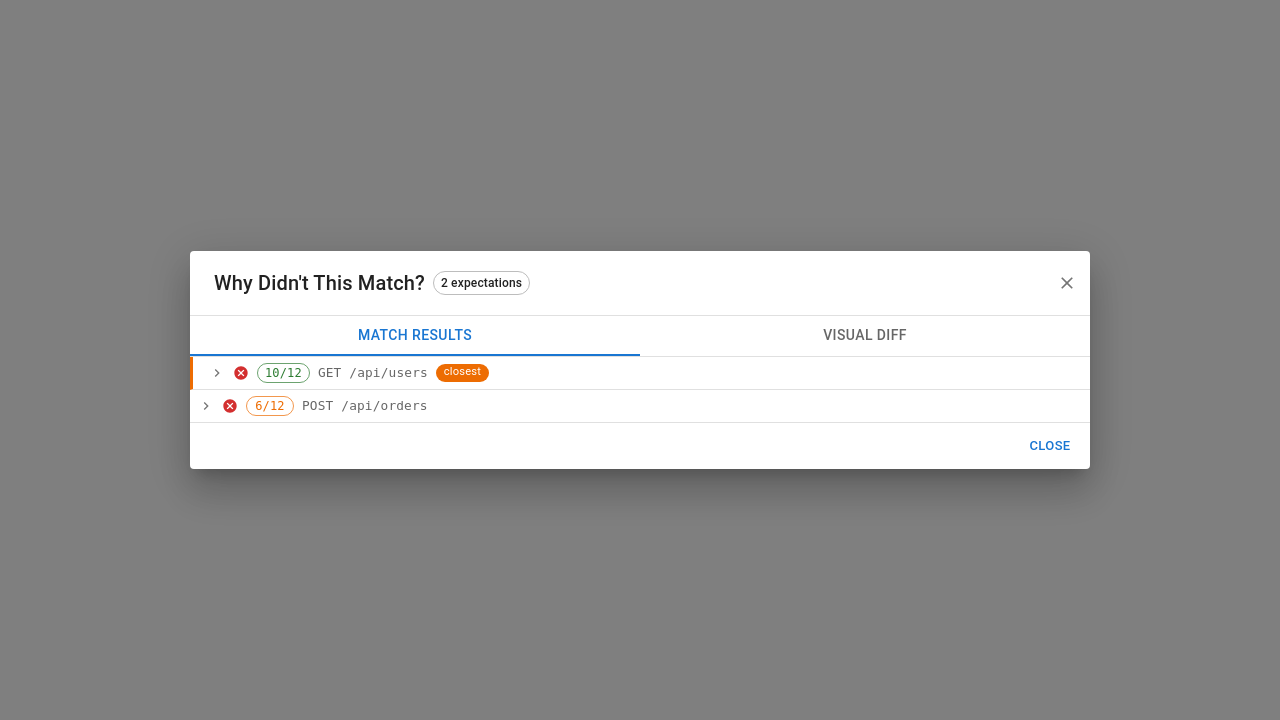
Scenario: DebugMismatchDialog › Visual diff tab › renders DiffPanel rows for the closest expectation differing fields
Click the tab "Visual diff": (865, 336) [640, 316, 1090, 356]
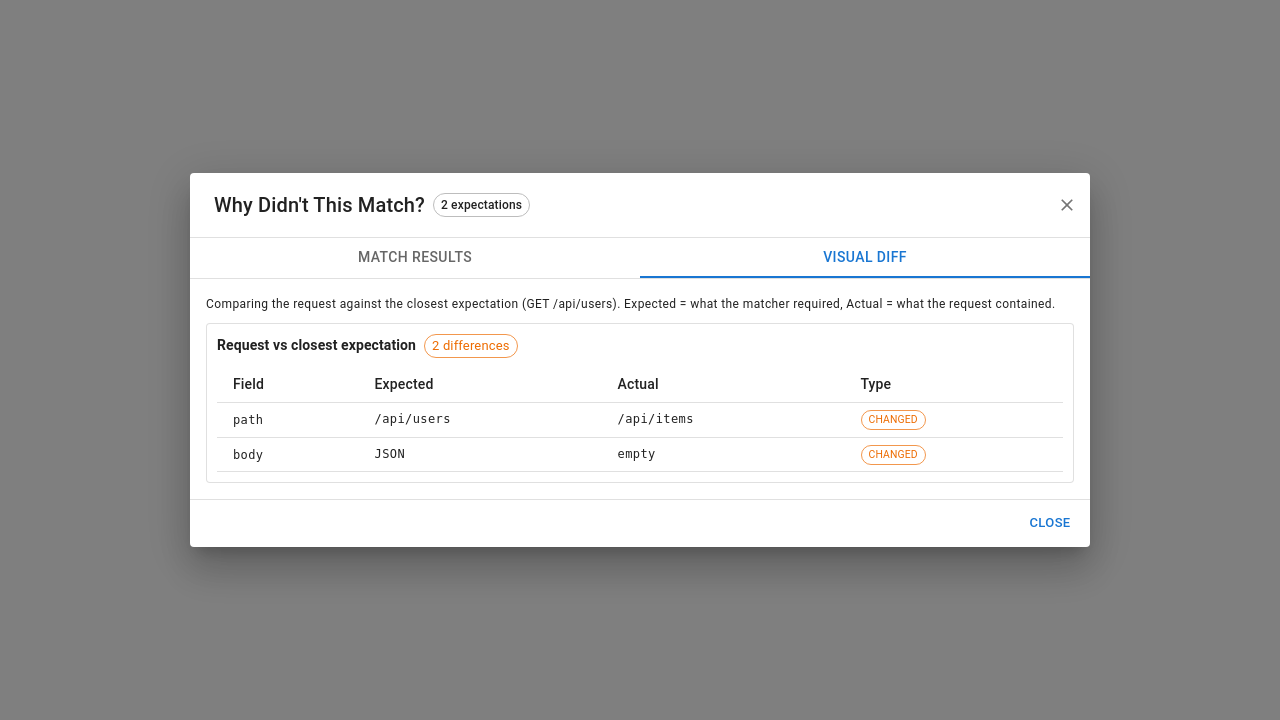
Expected: the column heading "Expected" is shown, [358, 366, 602, 402]
Expected: the column heading "Actual" is shown, [602, 366, 844, 402]
Expected: the text "path" is shown, [233, 413, 264, 427]
